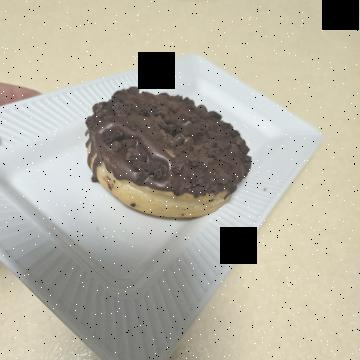doughnut: (68, 90, 232, 280)
